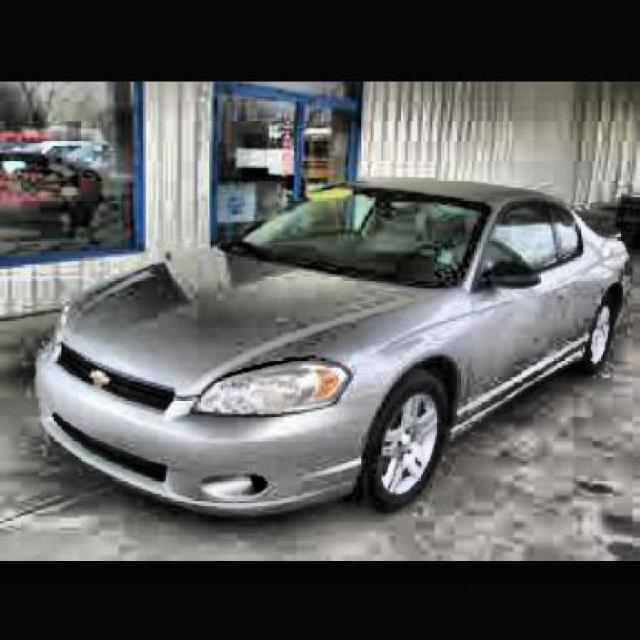silver: (37, 180, 631, 520)
